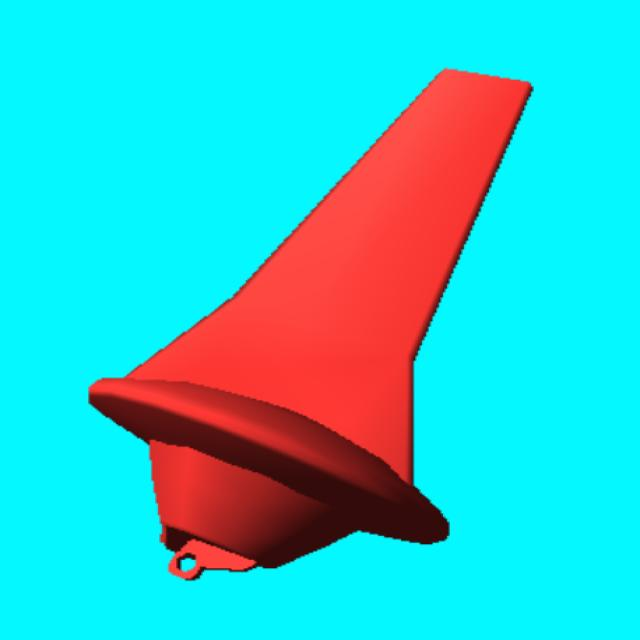RedBuoy: (90, 71, 530, 578)
